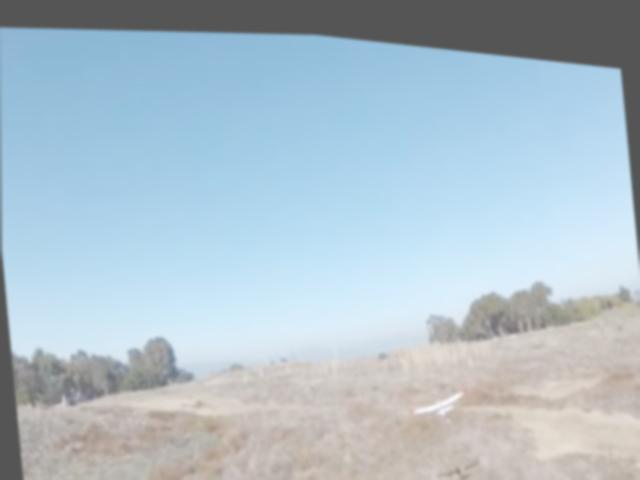uav: (404, 366, 474, 432)
